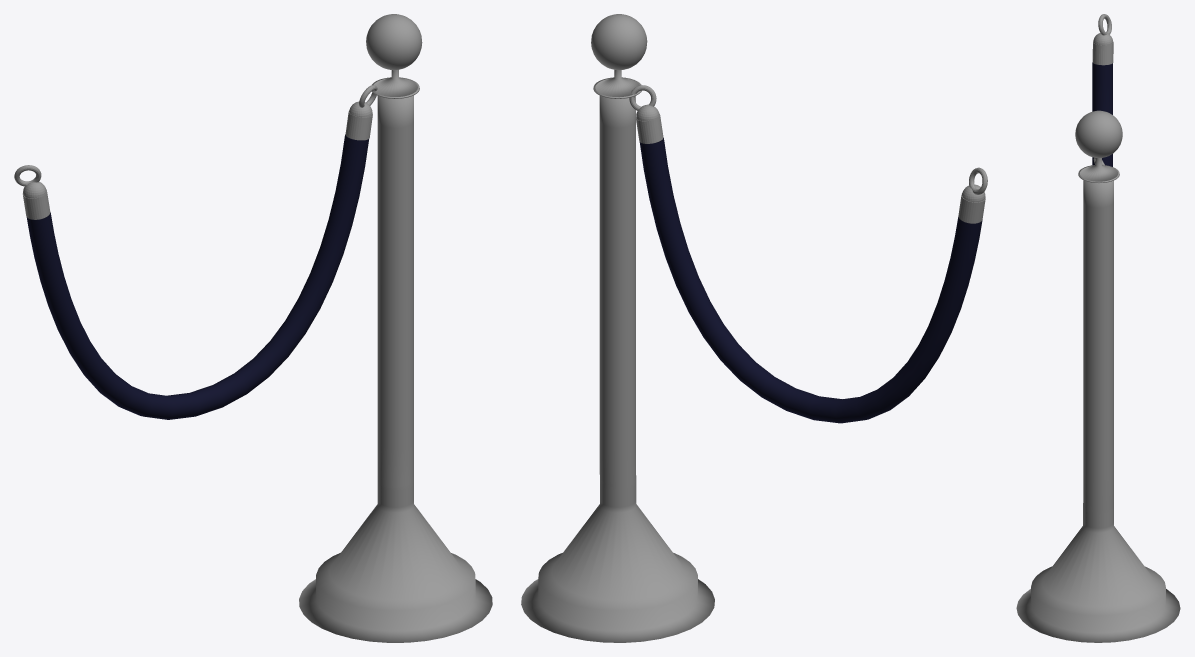
Rendered from PAGER MUSEUM.fbx.
3 renders of one model, left to right at view 1: azimuth 30°, elevation 25°; view 2: azimuth 150°, elevation 25°; view 3: azimuth 270°, elevation 25°, orthographic. The views are drawn at different scales.
Visible parts, largest first — view 1: Cylinder.002; view 2: Cylinder.002; view 3: Cylinder.002.
Part boxes in pixels (x1,y1,x2,y2): Cylinder.002: (14, 14, 492, 642); Cylinder.002: (521, 14, 987, 642); Cylinder.002: (1016, 14, 1180, 642).
Bounding box in the file's own units: 415 × 505 × 152.
